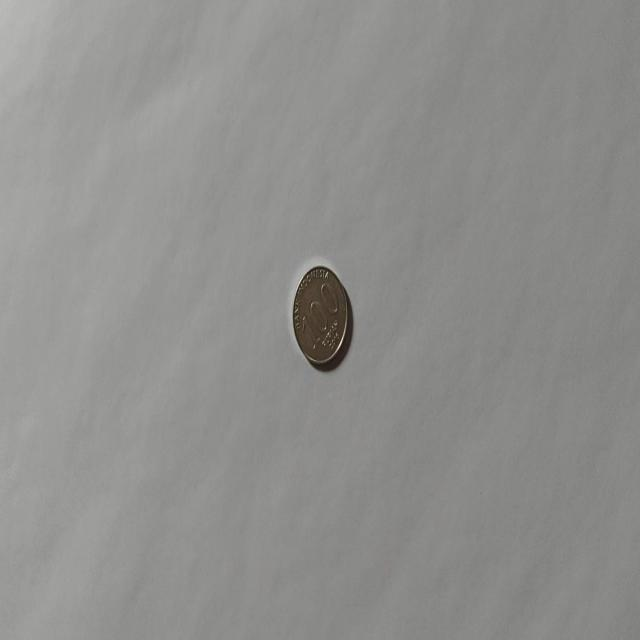seratus rupiah: (292, 263, 348, 368)
